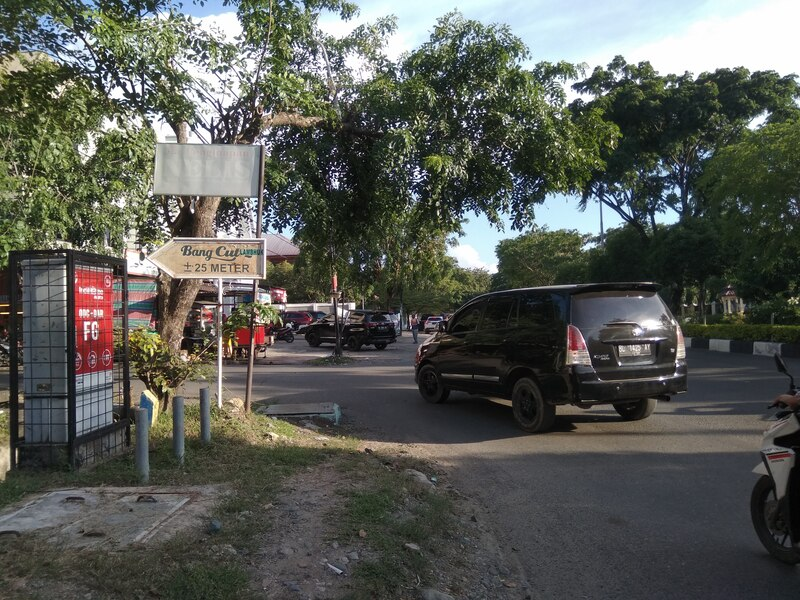car: (411, 278, 693, 440), (300, 305, 402, 357)
motorcycle: (743, 344, 800, 565)
